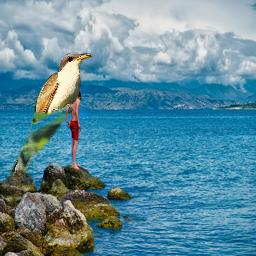Cuckoo: (8, 50, 94, 180)
